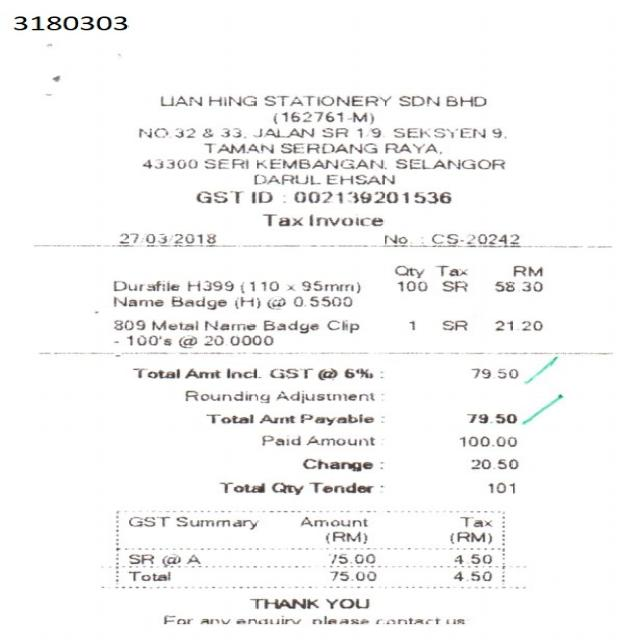text: (294, 191, 449, 202), (237, 280, 359, 293), (9, 16, 127, 29), (255, 156, 382, 168), (270, 111, 372, 124), (274, 390, 374, 403), (261, 95, 388, 105), (393, 157, 504, 168), (278, 142, 377, 154), (184, 390, 269, 403), (116, 231, 215, 242), (172, 516, 255, 529), (392, 126, 484, 137), (299, 457, 372, 470), (306, 213, 382, 225), (296, 413, 372, 425), (429, 233, 517, 243), (297, 514, 366, 526), (246, 596, 315, 608), (303, 434, 372, 445), (110, 279, 178, 290), (168, 295, 224, 308), (262, 319, 318, 332), (203, 143, 273, 153), (382, 142, 440, 154), (204, 334, 273, 344), (326, 174, 394, 184), (290, 295, 351, 306), (251, 174, 318, 184), (491, 278, 542, 291), (306, 482, 371, 492), (458, 434, 516, 445), (138, 126, 194, 137), (491, 319, 541, 331), (142, 157, 196, 168), (183, 278, 231, 290), (204, 319, 255, 330), (465, 411, 516, 422), (128, 367, 178, 378), (447, 530, 489, 543), (111, 295, 160, 306), (204, 156, 248, 168), (470, 367, 518, 378), (470, 458, 518, 469), (328, 569, 376, 580), (260, 212, 300, 225), (193, 191, 240, 202), (125, 568, 168, 580), (323, 597, 366, 609), (208, 95, 254, 106), (151, 319, 197, 330), (323, 530, 365, 542), (251, 128, 312, 136), (329, 551, 373, 562), (442, 95, 485, 106), (125, 514, 168, 525), (308, 616, 366, 624), (258, 434, 299, 445), (399, 95, 439, 106), (124, 334, 168, 344), (220, 482, 264, 492), (269, 367, 312, 377), (450, 569, 489, 580), (206, 413, 253, 422), (182, 367, 220, 378), (325, 319, 357, 332), (432, 264, 466, 276), (268, 482, 302, 494), (456, 514, 490, 526), (223, 367, 260, 378), (232, 617, 299, 623), (509, 264, 542, 276), (450, 553, 489, 563), (373, 618, 438, 624), (158, 96, 201, 105), (393, 279, 426, 290), (392, 265, 422, 277), (257, 413, 294, 422), (114, 319, 144, 330), (440, 278, 465, 291), (344, 367, 372, 378), (486, 481, 514, 492), (233, 295, 258, 307), (319, 126, 346, 137), (127, 552, 151, 564), (440, 319, 466, 330), (356, 126, 380, 137), (316, 367, 335, 380), (382, 233, 406, 243), (264, 296, 284, 308), (160, 553, 179, 565), (163, 614, 190, 622), (178, 334, 194, 347), (251, 191, 269, 202), (220, 128, 240, 136), (198, 618, 228, 623), (185, 554, 199, 564), (490, 126, 501, 138), (444, 618, 463, 623), (405, 319, 414, 329), (200, 128, 211, 136)
